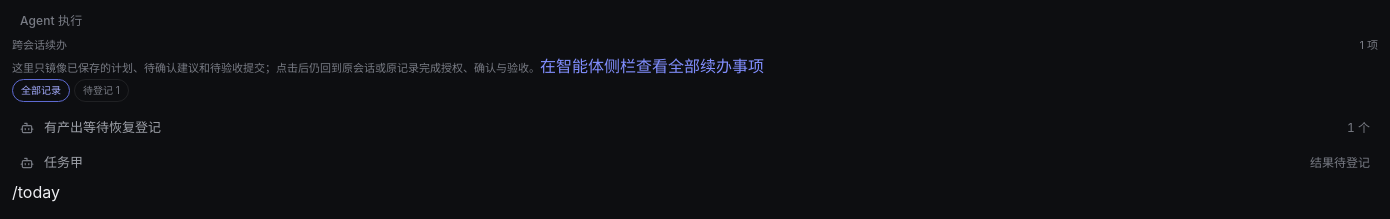
Scenario: AgentsTab › opens the full queue and expands the rail when attention exists beyond the loaded page
Click the button "在智能体侧栏查看全部续办事项".
click(652, 66)  # box [540,54,764,78]
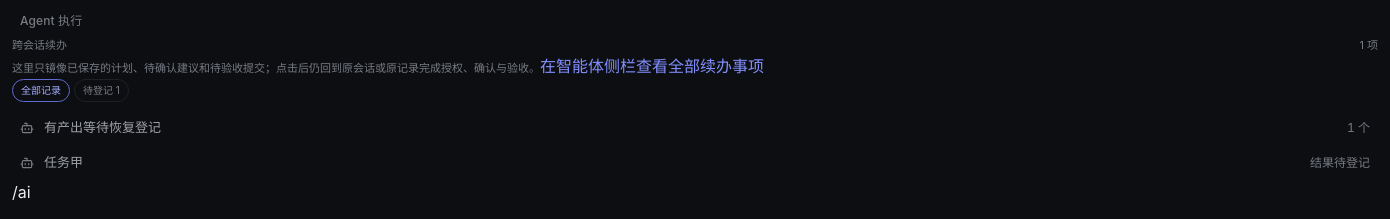
Expected: the text with test id "location" reads "/ai", [12,182,31,202]
